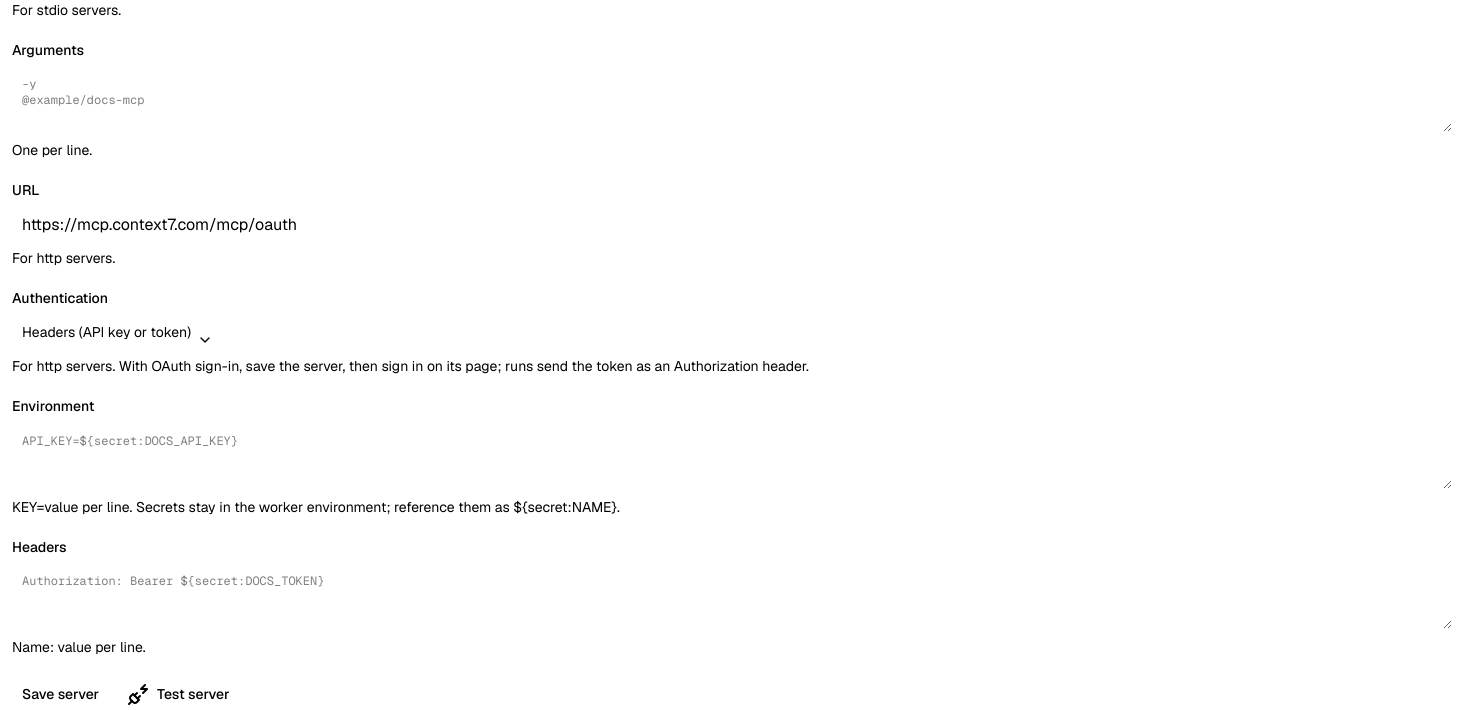
a server that offers OAuth can be switched to OAuth sign-in from the test result
(page scrolled)
Expected: the dropdown labelled "Authentication" shows "Headers (API key or token)", [12,316,223,348]
Click the button "Test server" at [178, 694], box [117,678,240,709]
(page scrolled)
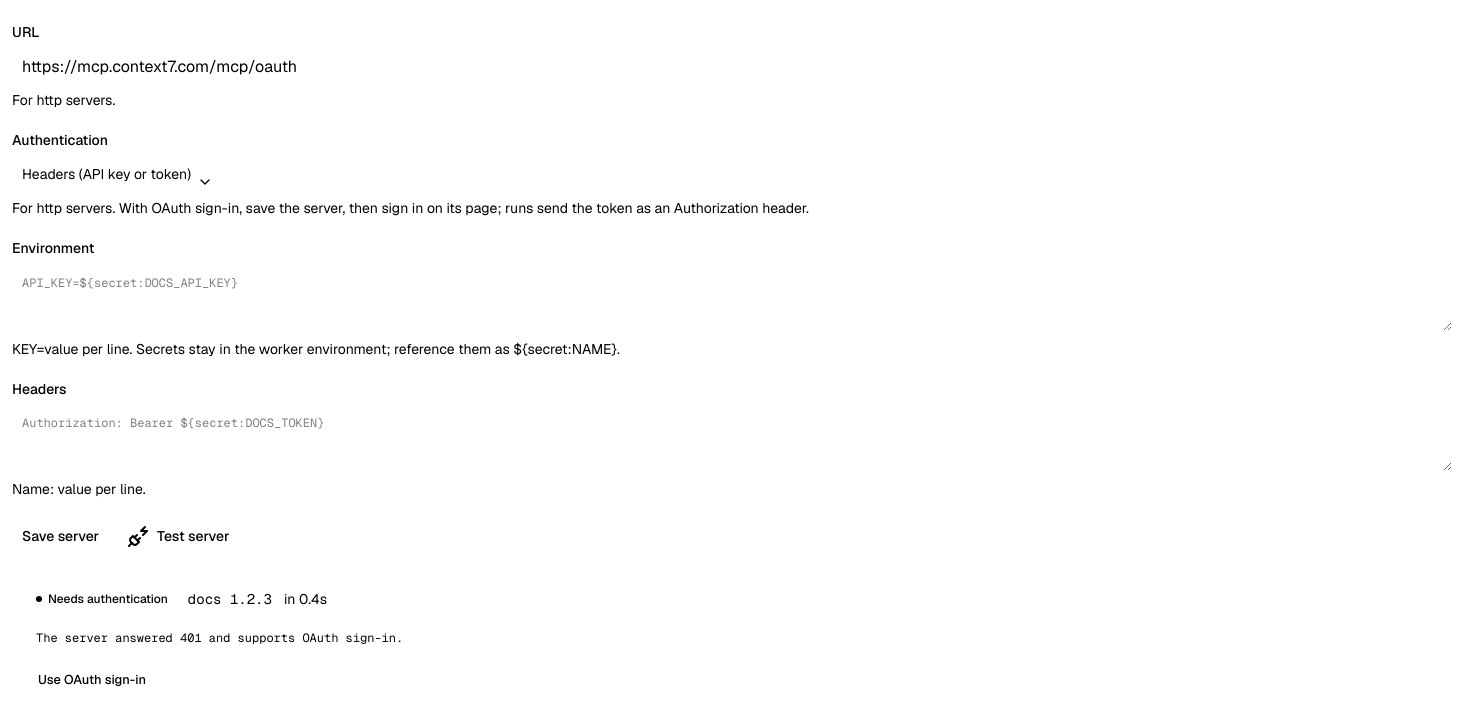
Click the button "Use OAuth sign-in" at [92, 680], box [28,666,156,694]
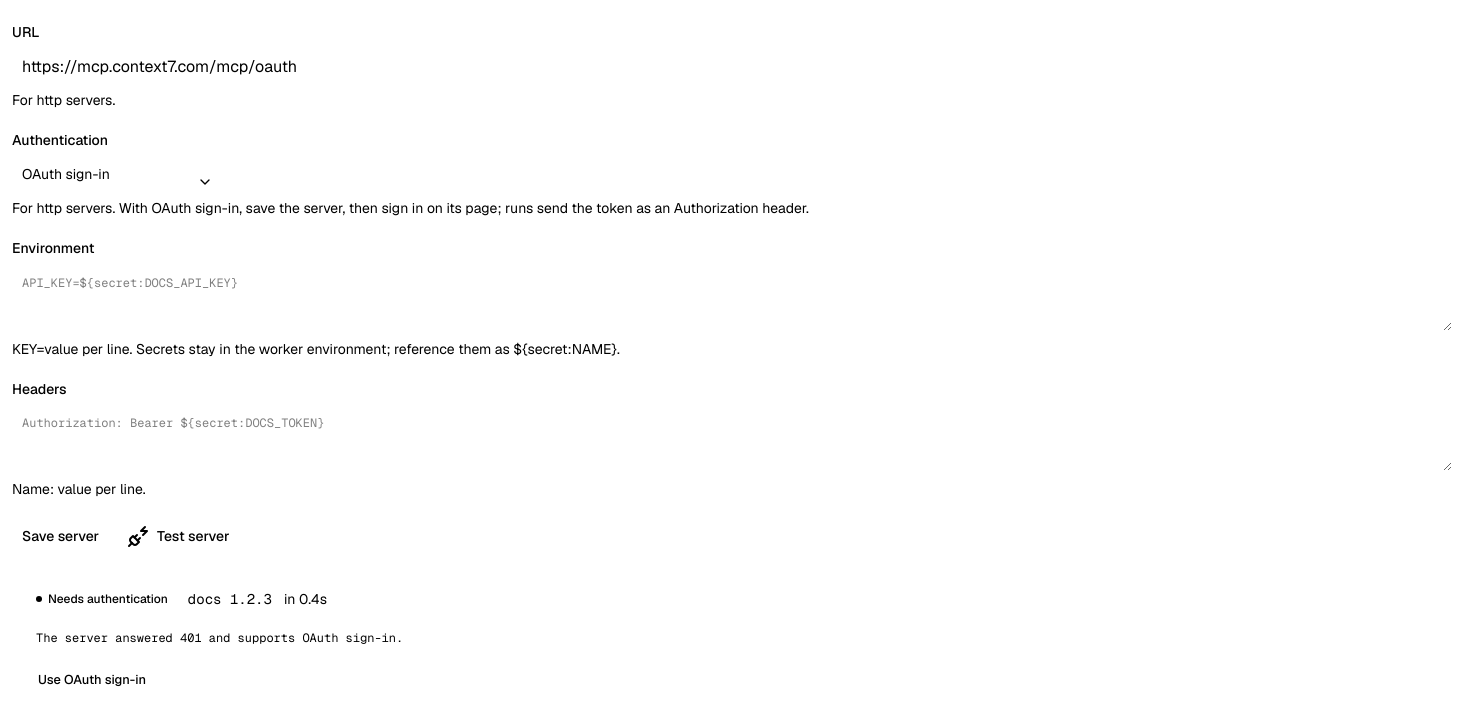
Expected: the dropdown labelled "Authentication" shows "OAuth sign-in", [12,158,223,190]
